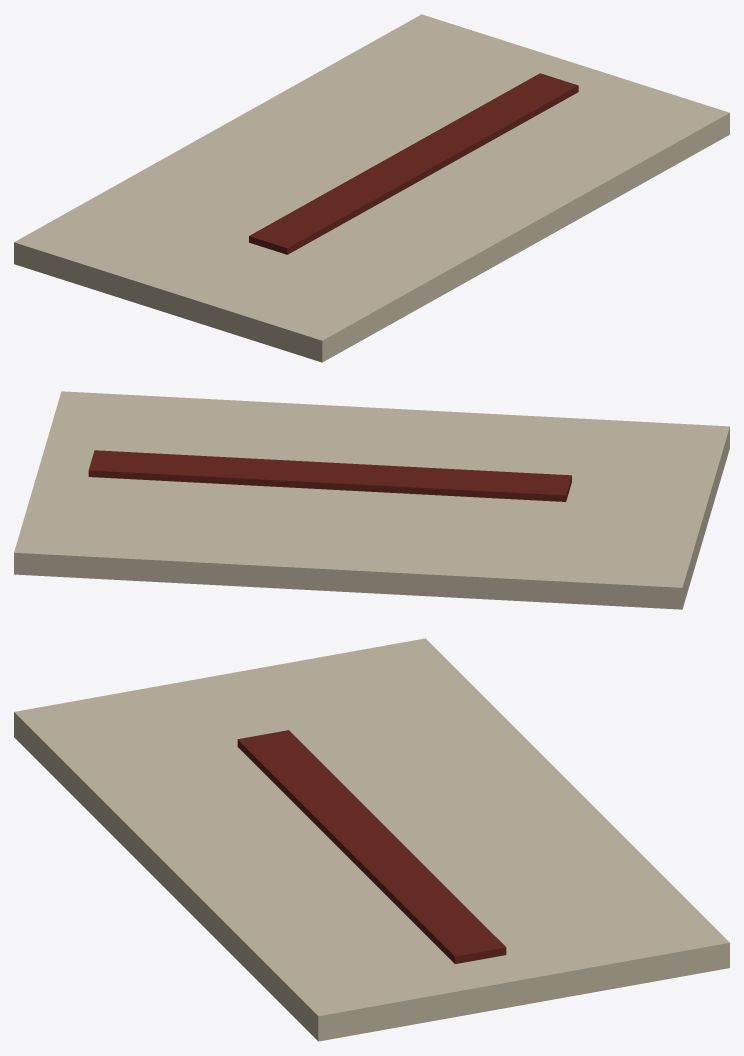
File: paper.58e74404.glb
3 views of the same model, one above another, from view 1: azimuth 30°, elevation 25°; view 2: azimuth 150°, elevation 25°; view 3: azimuth 270°, elevation 25° (orthographic). The views are drawn at different scales.
Parts seen in each view (by area): view 1: body; view 2: body; view 3: body.
Part boxes in pixels (box(x1,y1,x2,y2)): body: box(14, 14, 729, 362); body: box(14, 391, 729, 609); body: box(14, 638, 729, 1041).
Size of the model in its own units: 0.3202 by 0.013 by 0.2564.
